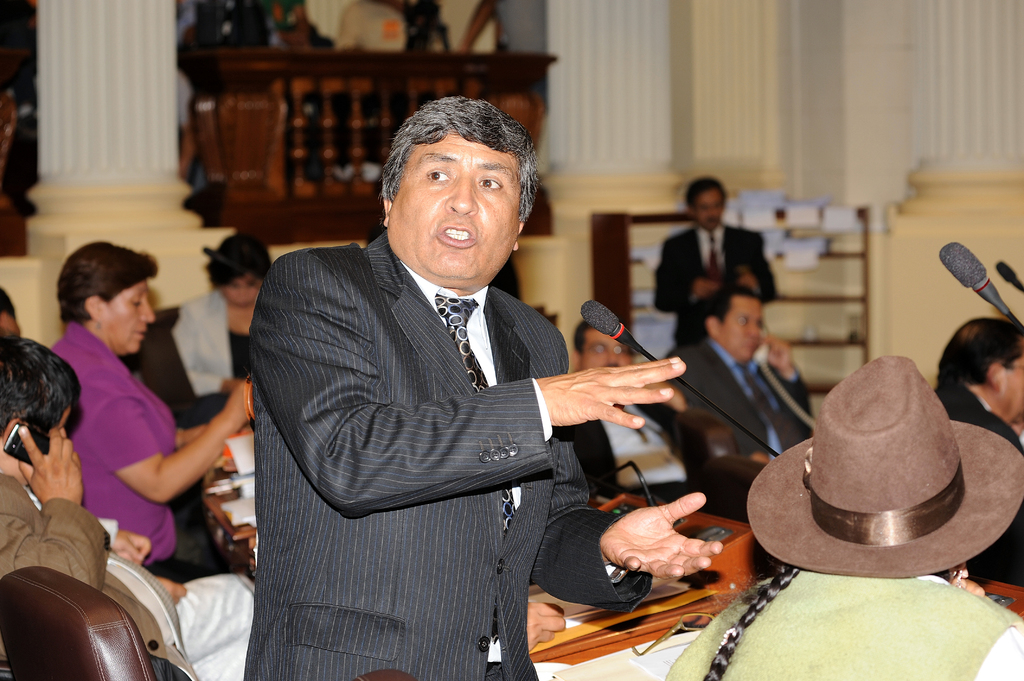face: (389, 134, 520, 280), (2, 395, 83, 500), (77, 267, 156, 358), (977, 326, 1023, 421), (574, 318, 638, 376), (713, 302, 762, 360), (220, 264, 269, 306), (691, 182, 726, 229)
person: (244, 97, 722, 672), (48, 242, 210, 566), (659, 292, 819, 473), (650, 172, 791, 348), (930, 304, 1019, 582), (181, 231, 265, 395)
